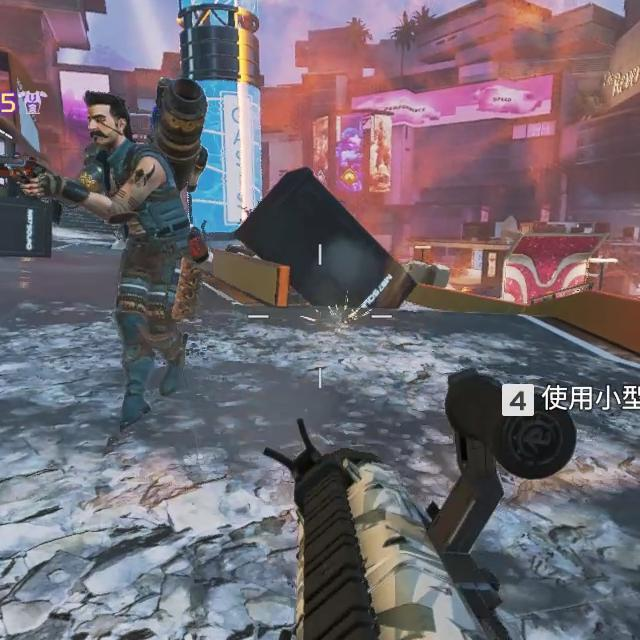avatar: (80, 86, 204, 433)
